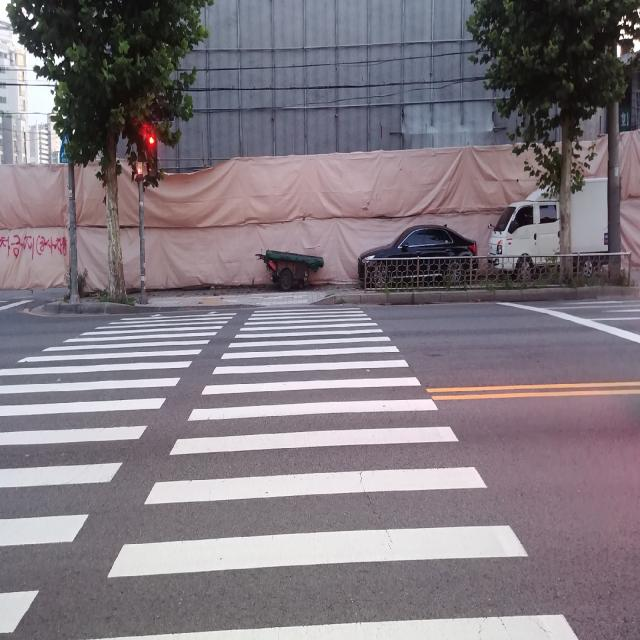빨간불: (146, 122, 159, 180)
횡단보도: (0, 300, 581, 639)
